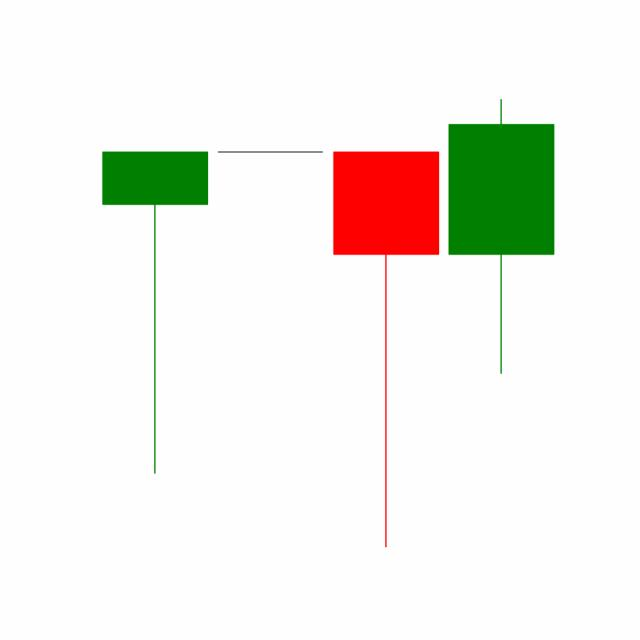Hammer: (328, 147, 444, 552)
